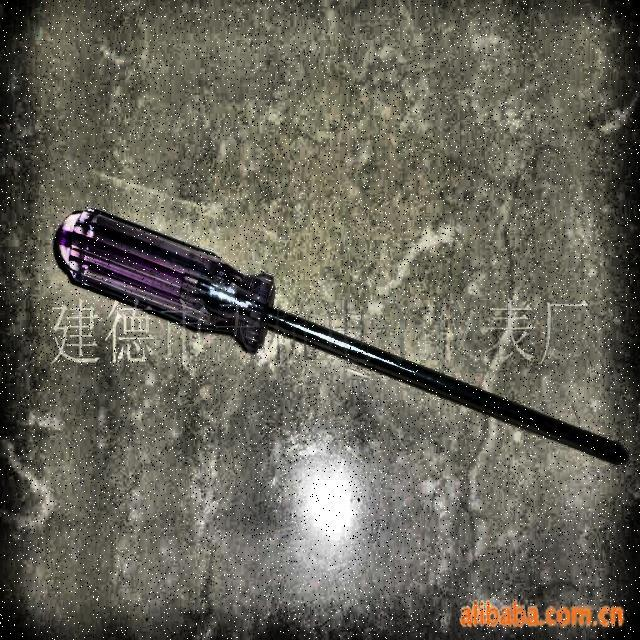screwdriver: (55, 205, 629, 467)
